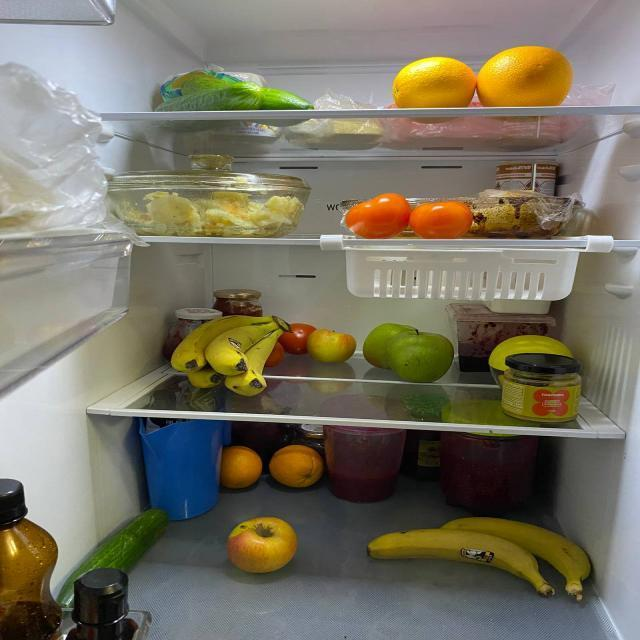Apple: (228, 516, 296, 573), (386, 332, 454, 383), (361, 326, 419, 367), (310, 326, 354, 363)
Banana: (362, 519, 608, 599), (162, 312, 290, 393)
Cucumber: (58, 513, 168, 603), (147, 83, 265, 106), (253, 91, 315, 115)
Orange: (474, 48, 576, 110), (397, 57, 471, 110), (269, 444, 327, 489), (221, 450, 267, 485)
Tomato: (344, 189, 414, 239), (410, 197, 476, 238), (278, 322, 316, 351), (267, 338, 293, 366)
